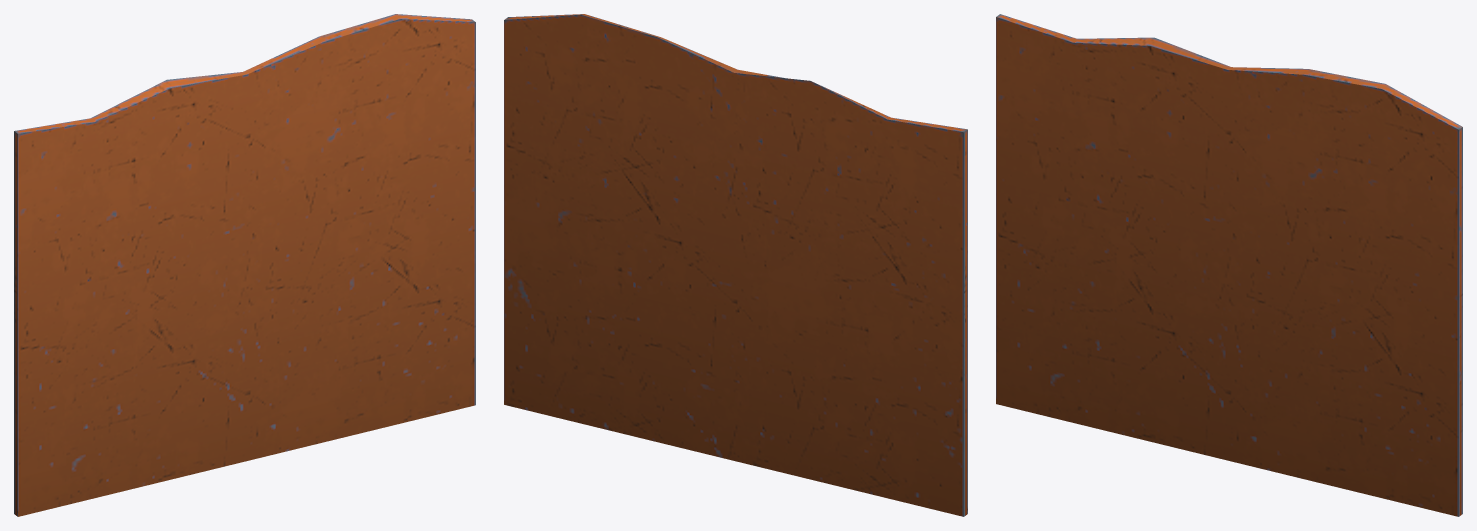
File: Wall1.fbx
3 renders of one model, left to right at view 1: azimuth 30°, elevation 25°; view 2: azimuth 150°, elevation 25°; view 3: azimuth 330°, elevation 25°, orthographic.
Parts seen in each view (by area): view 1: Wall1; view 2: Wall1; view 3: Wall1.
Boxes of the visible parts, <box> form: Wall1: <box>14,14,475,516</box>; Wall1: <box>504,14,967,516</box>; Wall1: <box>996,14,1462,516</box>.
Bounding box in the file's own units: 6 × 5.1 × 0.09.
